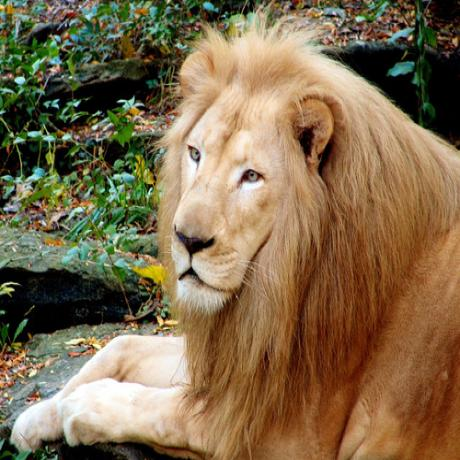Lion: (14, 30, 460, 460)
